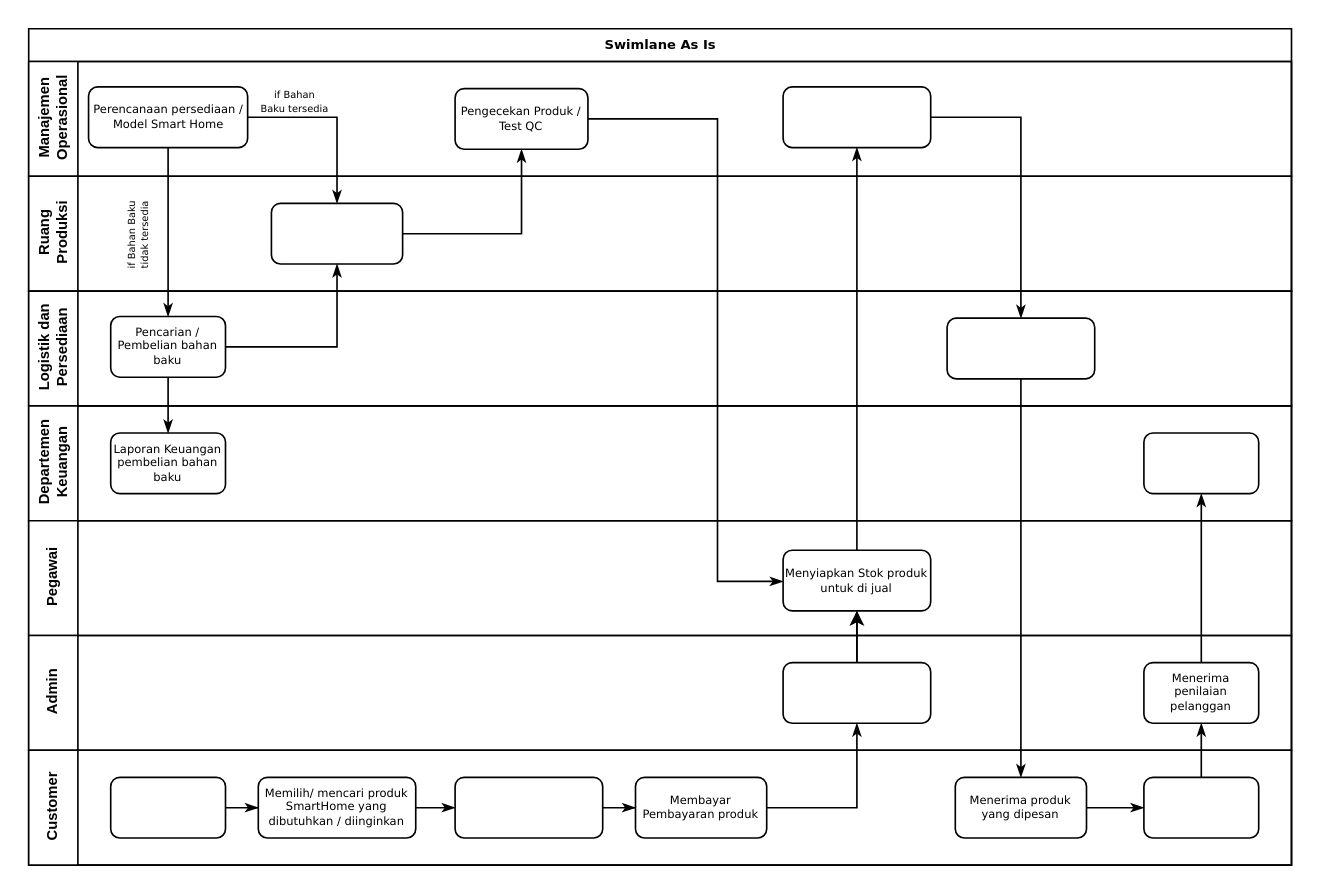
The diagram is 1320 pixels wide and 894 high, and some of its shapes have lost their labels. The centre of each missing label's shape, as x and y in pixels:
"Melakukan pengiriman kepada pelanggan" belongs at point (1020, 348).
"Melaporkan keuangan hasil penjualan" belongs at point (1200, 462).
"Membeli produk perangkat SmartHome melalui Ecommerce" belongs at point (528, 807).
"Menerima pesanan Pelanggan" belongs at point (856, 692).
"Mengunjungi Toko" belongs at point (167, 807).
"Menilai produk yang pesan" belongs at point (1200, 807).
"Menyiapkan pesanan Pelanggan" belongs at point (856, 116).
"Produksi Pembuatan Perangkat Smart Home" belongs at point (336, 233).
